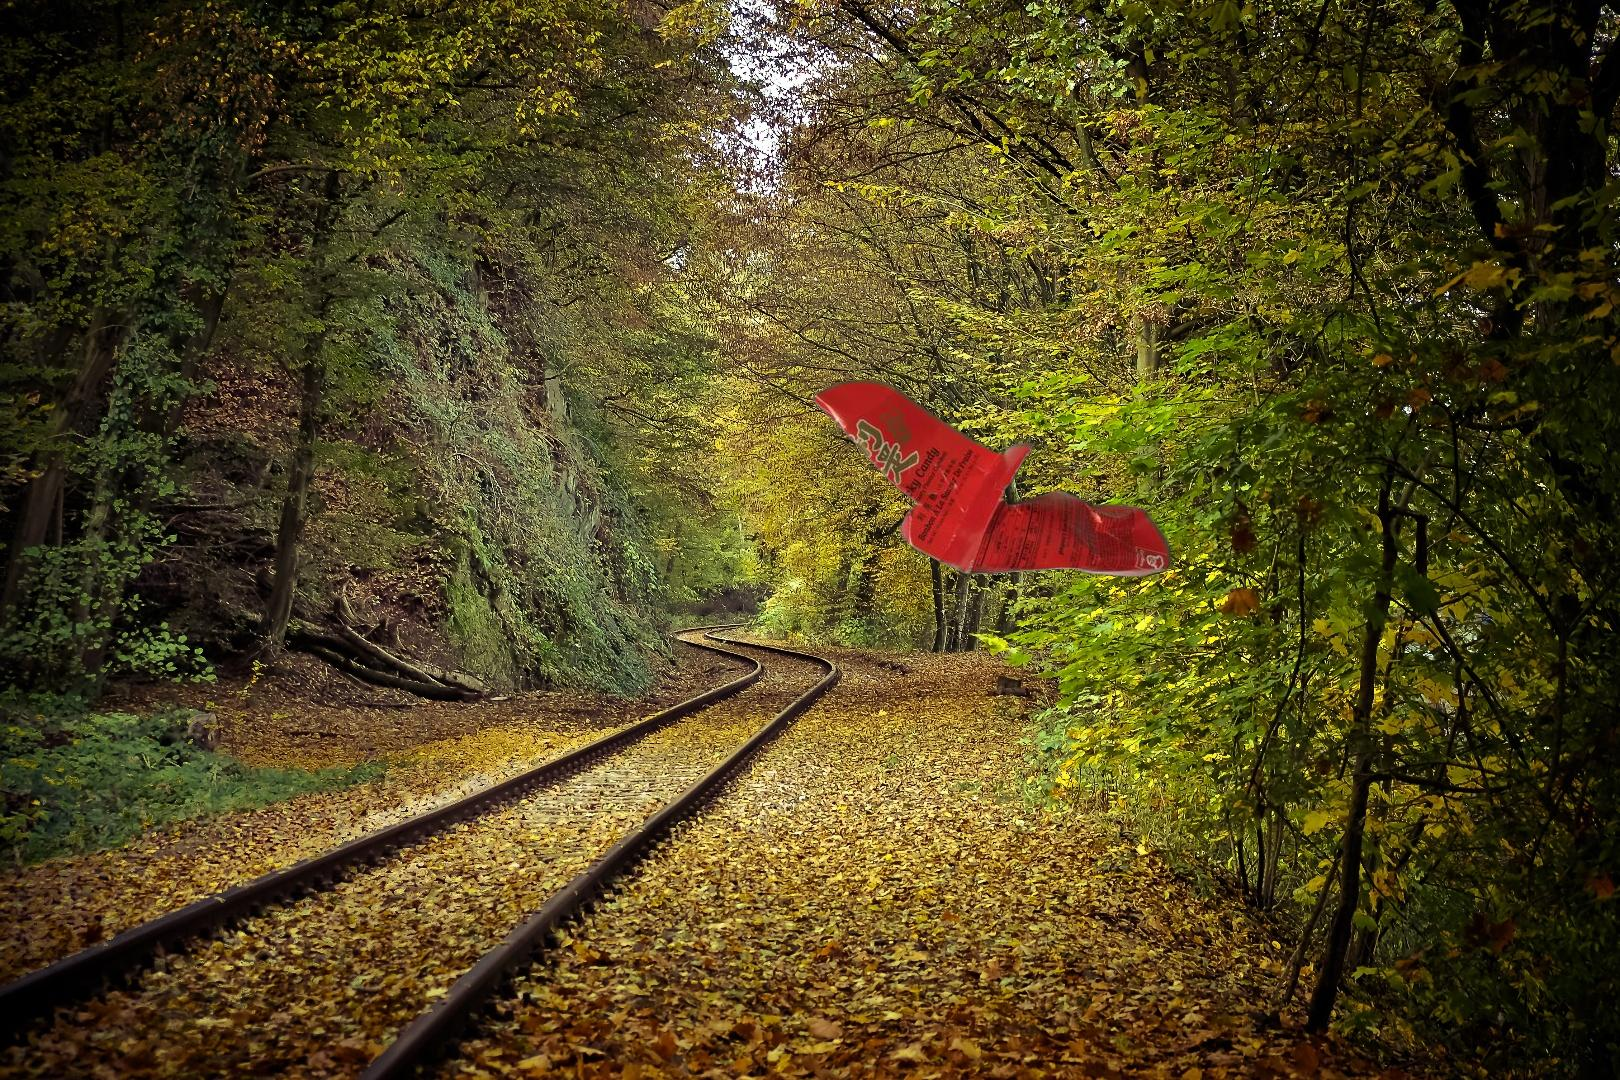paper: (808, 376, 1176, 579)
